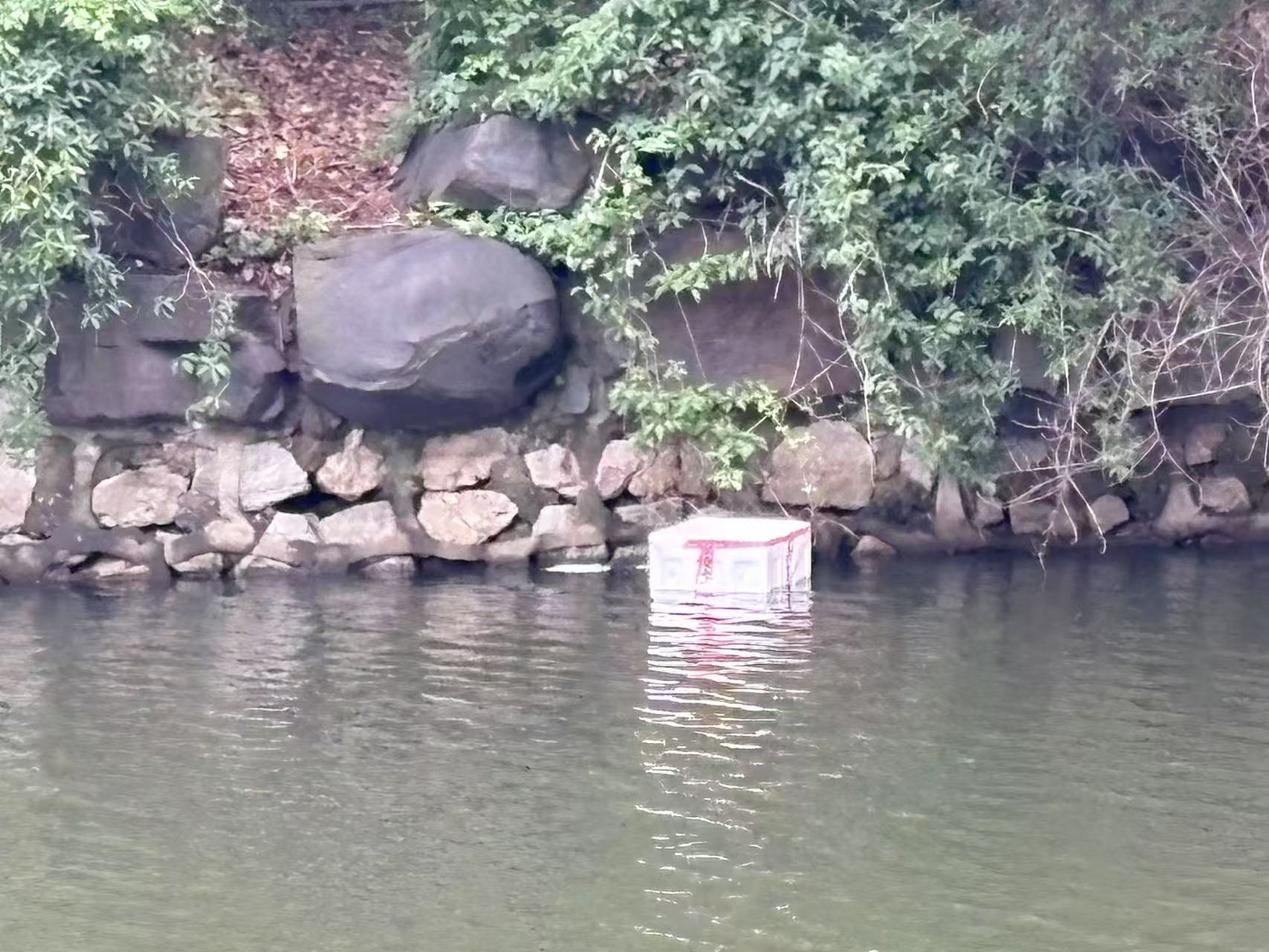Plastic wastes: (650, 515, 816, 594)
